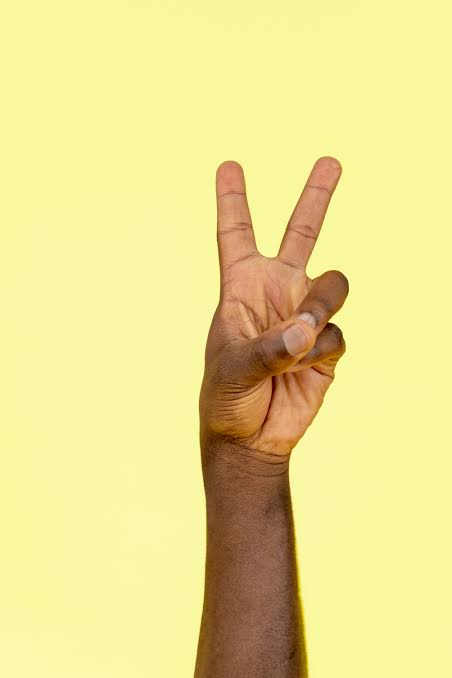peace_sign: (196, 136, 367, 468)
